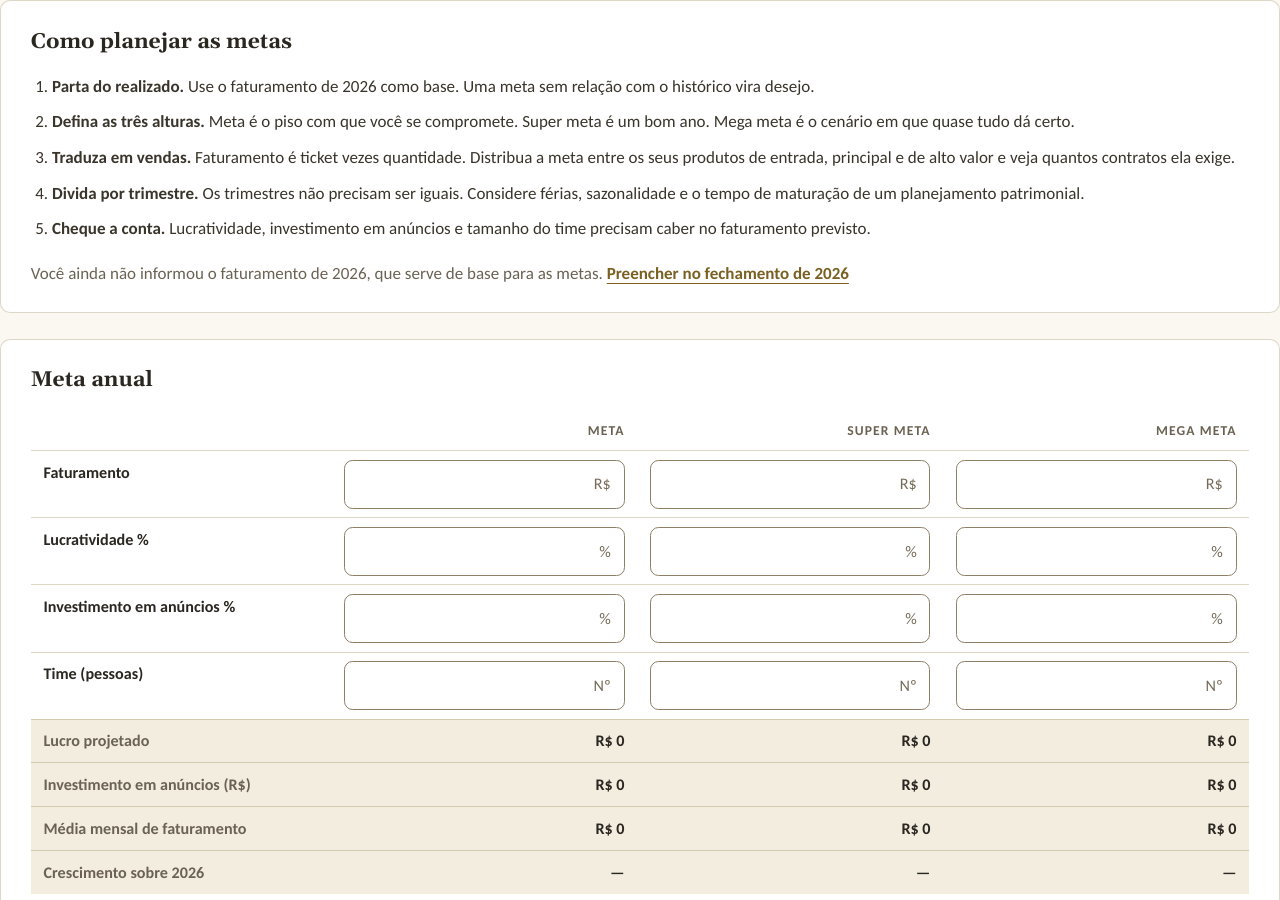
Test case: dividir-em-quatro
Type "1.000.001" into the field named "Faturamento · Meta".
click(484, 484); type("1.000.001")  # box [344, 460, 624, 509]
(page scrolled)
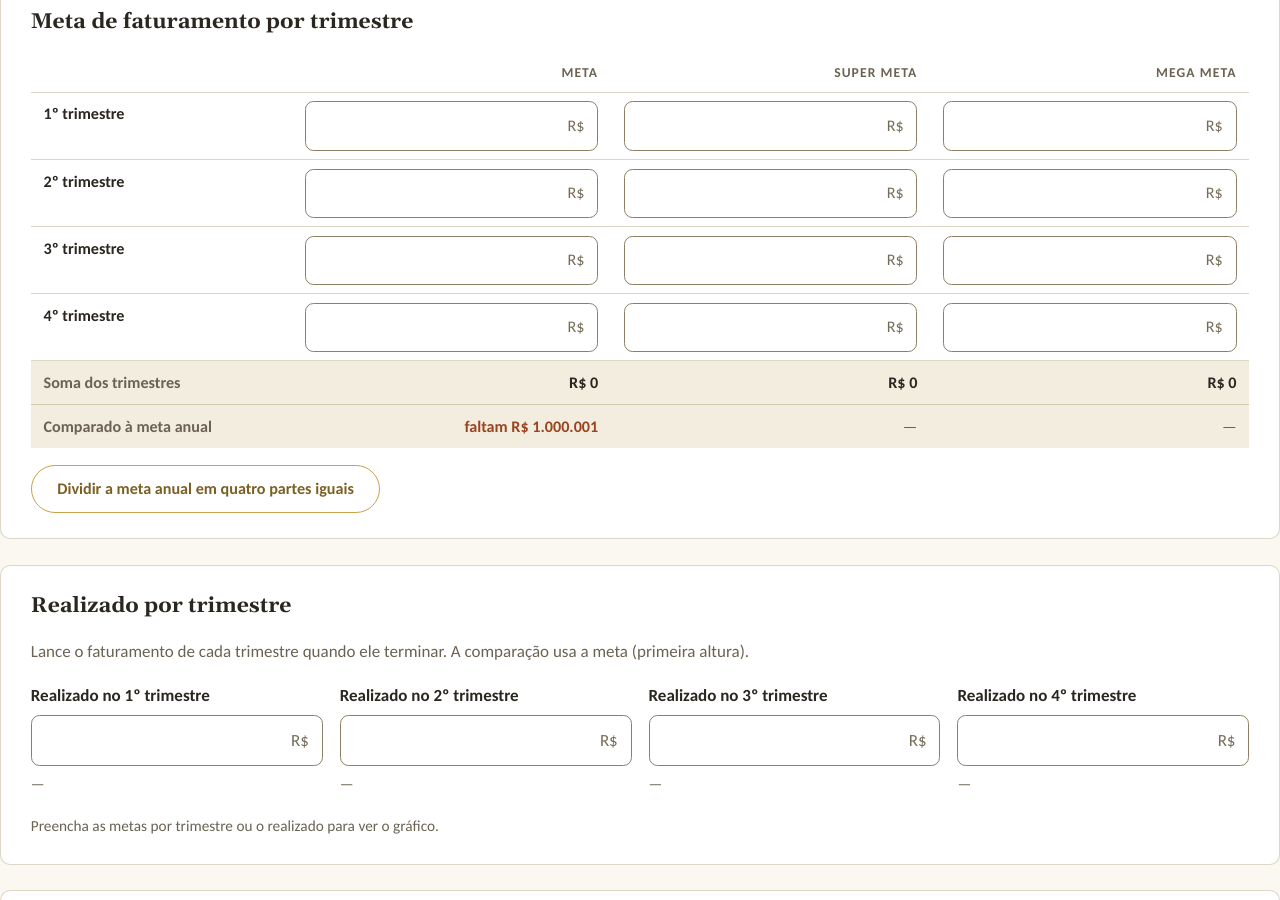
Click the button "Dividir a meta anual em quatro partes iguais".
click(206, 489)  # box [31, 465, 380, 513]
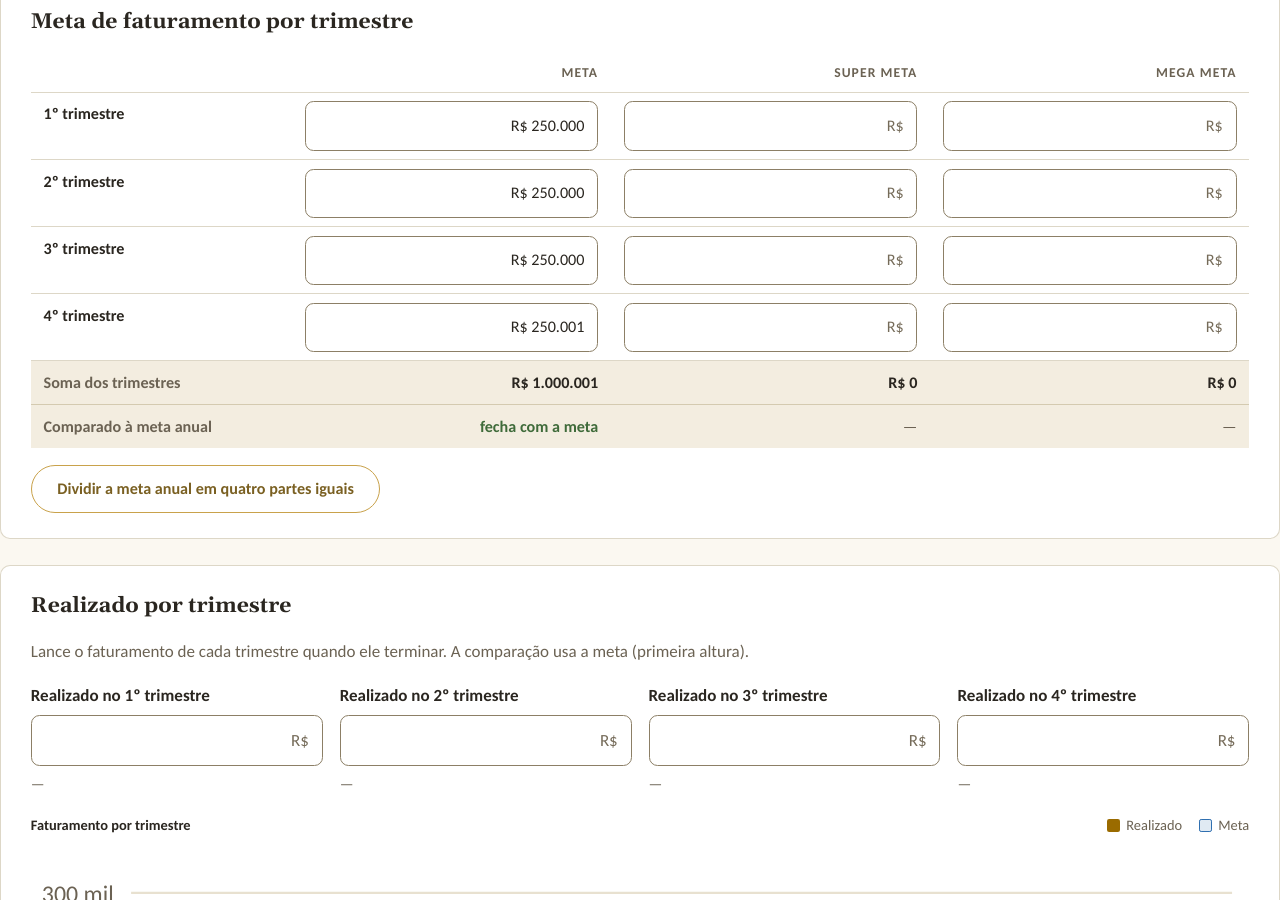
expect the text with test id "tri-dif-meta" reads "fecha com a meta": met, box [480, 416, 598, 436]
